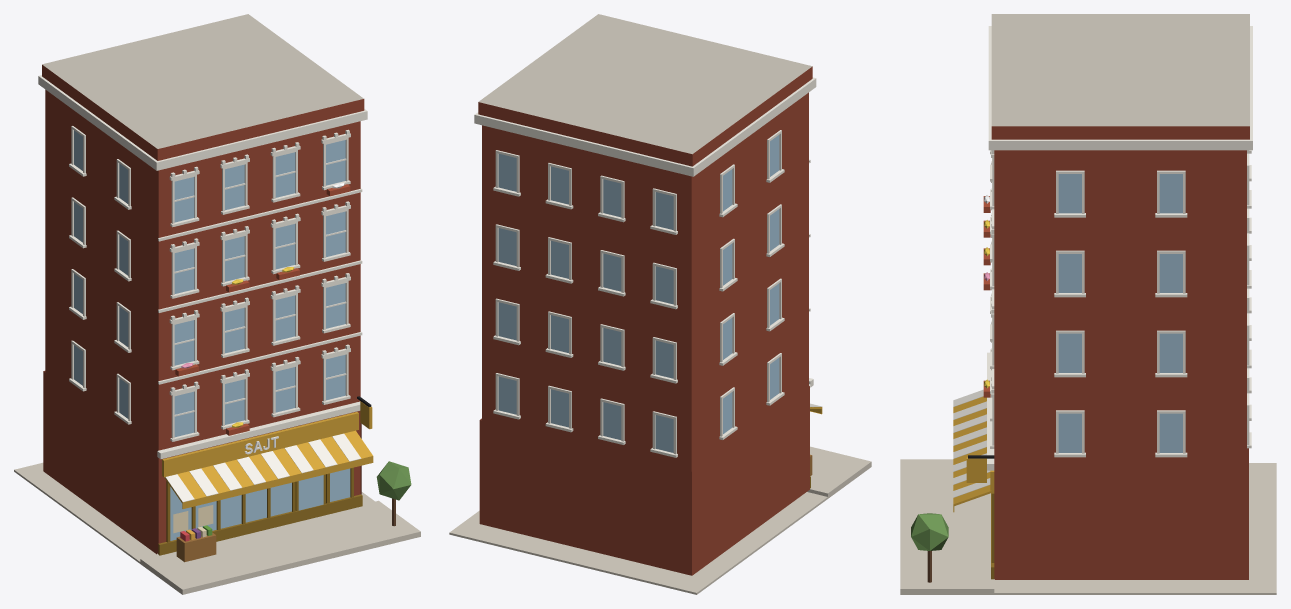
File: Dukkan_genel_sajt_Hafif.fbx
3 renders of one model, left to right at view 1: azimuth 30°, elevation 25°; view 2: azimuth 150°, elevation 25°; view 3: azimuth 270°, elevation 25°, orthographic. The views are drawn at different scales.
Visible parts, largest first — view 1: Dukkan_genel_sajt_Hafif; view 2: Dukkan_genel_sajt_Hafif; view 3: Dukkan_genel_sajt_Hafif.
Part boxes in pixels (bbox=[...]): Dukkan_genel_sajt_Hafif: bbox=[14, 14, 420, 594]; Dukkan_genel_sajt_Hafif: bbox=[449, 14, 871, 594]; Dukkan_genel_sajt_Hafif: bbox=[900, 14, 1276, 594].
Bounding box in the file's own units: 10.49 × 17.27 × 12.8.
